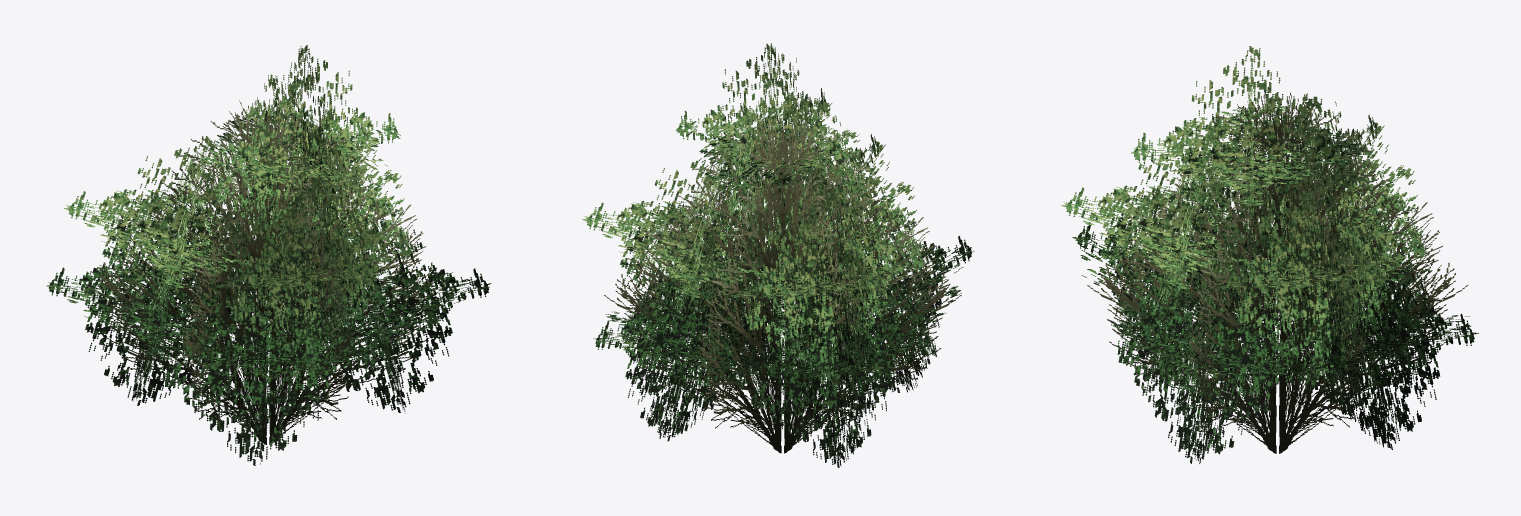
File: grauwe_wilg_1.fbx
The picture shows the model from 3 angles, left to right: view 1: azimuth 30°, elevation 25°; view 2: azimuth 150°, elevation 25°; view 3: azimuth 270°, elevation 25°; orthographic projection. The views are drawn at different scales.
Visible parts, largest first — view 1: grauwe_wilg_1; view 2: grauwe_wilg_1; view 3: grauwe_wilg_1.
Part boxes in pixels (x1=…): grauwe_wilg_1: x1=46, y1=45, x2=491, y2=465; grauwe_wilg_1: x1=582, y1=43, x2=974, y2=467; grauwe_wilg_1: x1=1061, y1=46, x2=1478, y2=463.
Bounding box in the file's own units: 526 × 571 × 544.
